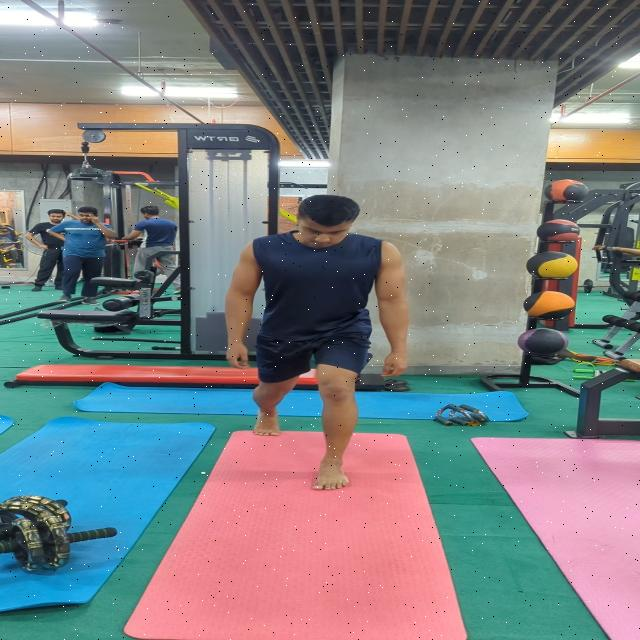Normal_Lunges: (222, 195, 412, 492)
